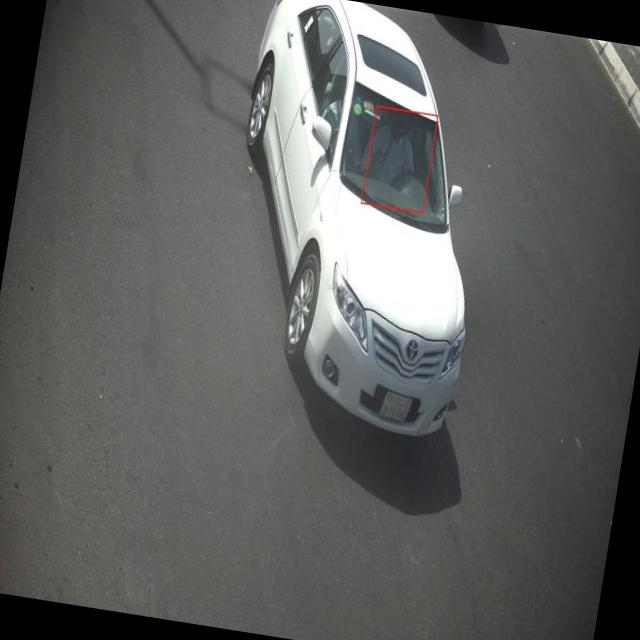person_without_seatbelt: (367, 110, 435, 209)
